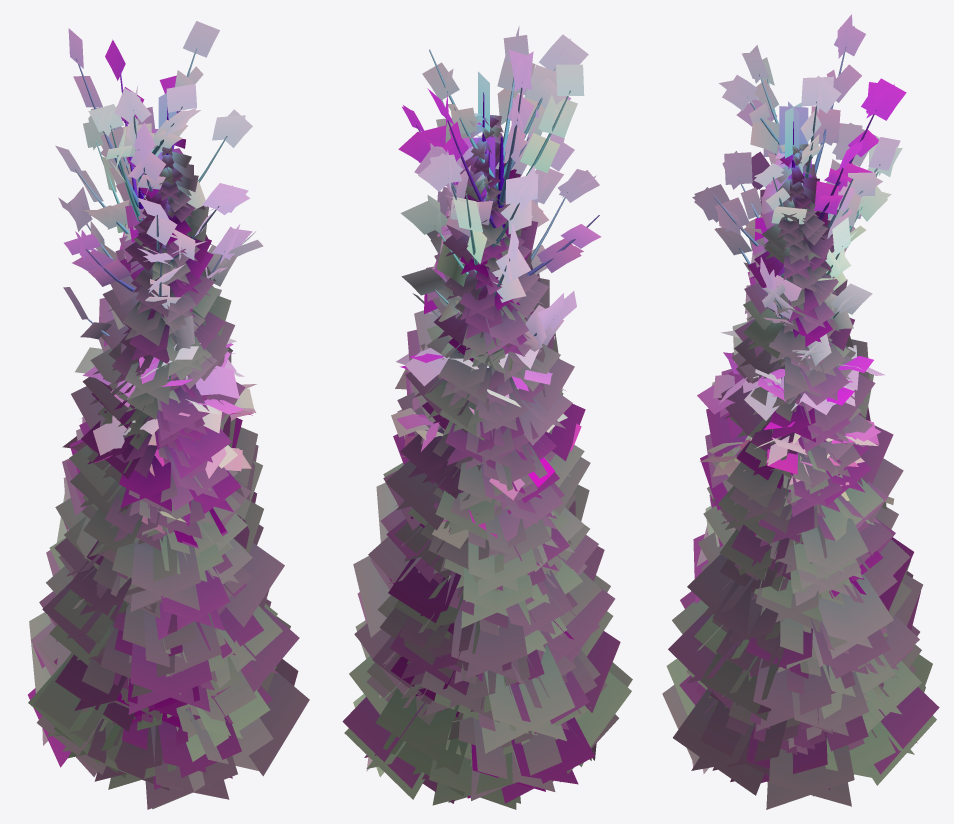
The model's file is trees.glb.
3 renders of one model, left to right at view 1: azimuth 30°, elevation 25°; view 2: azimuth 150°, elevation 25°; view 3: azimuth 270°, elevation 25°, orthographic. The views are drawn at different scales.
Parts seen in each view (by area): view 1: spruce_1, spruce_2, pine_1, pine_0, birch_0, spruce_0, birch_1; view 2: spruce_1, spruce_2, pine_1, pine_0, birch_0, spruce_0, birch_1; view 3: spruce_1, spruce_2, pine_1, pine_0, birch_0, birch_1, spruce_0.
Boxes of the visible parts, bbox=[...] form: spruce_1: bbox=[28, 93, 309, 809]; spruce_2: bbox=[28, 148, 277, 791]; pine_1: bbox=[64, 21, 263, 350]; pine_0: bbox=[55, 75, 252, 351]; birch_0: bbox=[62, 338, 256, 533]; spruce_0: bbox=[49, 285, 272, 809]; birch_1: bbox=[72, 351, 244, 562]; spruce_1: bbox=[342, 71, 632, 800]; spruce_2: bbox=[344, 136, 620, 809]; pine_1: bbox=[400, 26, 601, 371]; pine_0: bbox=[398, 97, 599, 397]; birch_0: bbox=[391, 312, 581, 570]; spruce_0: bbox=[390, 185, 600, 803]; birch_1: bbox=[396, 351, 554, 537]; spruce_1: bbox=[666, 101, 939, 809]; spruce_2: bbox=[662, 160, 936, 796]; pine_1: bbox=[713, 14, 906, 329]; pine_0: bbox=[692, 99, 902, 404]; birch_0: bbox=[697, 331, 894, 575]; birch_1: bbox=[707, 352, 881, 535]; spruce_0: bbox=[679, 267, 905, 782].
Bounding box in the file's own units: 8.79 × 24.54 × 8.58.
